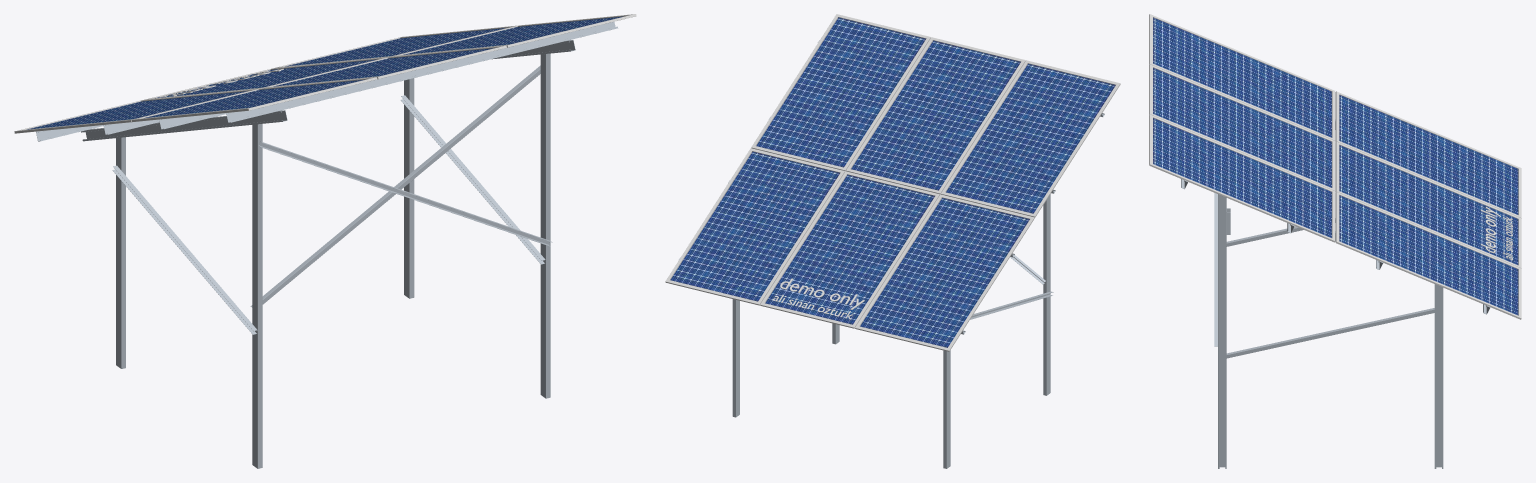
The model's file is Noksel Solar.glb.
3 views of the same model, side by side, from view 1: azimuth 30°, elevation 25°; view 2: azimuth 150°, elevation 25°; view 3: azimuth 270°, elevation 25° (orthographic). The views are drawn at different scales.
Visible parts, largest first — view 1: CC-45, CC-45.007, CC-45.006, defaultMaterial.002, defaultMaterial.004, defaultMaterial.006, defaultMaterial.001, U-40.003, defaultMaterial.005, defaultMaterial.003, CC-45.001, CC-45.008 (+4 smaller); view 2: defaultMaterial.001, defaultMaterial.005, defaultMaterial.002, defaultMaterial.004, defaultMaterial.006, defaultMaterial.003, CC-45, CC-45.001, CC-45.008, demoOnly; view 3: defaultMaterial.006, defaultMaterial.005, defaultMaterial.001, defaultMaterial.002, defaultMaterial.004, defaultMaterial.003, CC-45.007, CC-45.008, U-40.002, U-40.004, U-40.001, demoOnly.
Part boxes in pixels (bbox=[...]): CC-45: bbox=[252, 124, 262, 468]; CC-45.007: bbox=[540, 53, 550, 398]; CC-45.006: bbox=[226, 22, 617, 122]; defaultMaterial.002: bbox=[131, 77, 377, 122]; defaultMaterial.004: bbox=[262, 45, 506, 88]; defaultMaterial.006: bbox=[391, 14, 636, 56]; defaultMaterial.001: bbox=[14, 88, 258, 133]; U-40.003: bbox=[250, 65, 540, 307]; defaultMaterial.005: bbox=[274, 25, 517, 68]; defaultMaterial.003: bbox=[144, 57, 388, 99]; CC-45.001: bbox=[116, 137, 125, 368]; CC-45.008: bbox=[404, 78, 414, 298]; defaultMaterial.001: bbox=[855, 194, 1034, 351]; defaultMaterial.005: bbox=[665, 148, 844, 305]; defaultMaterial.002: bbox=[941, 60, 1120, 217]; defaultMaterial.004: bbox=[846, 37, 1025, 194]; defaultMaterial.006: bbox=[751, 14, 930, 171]; defaultMaterial.003: bbox=[760, 171, 939, 328]; CC-45: bbox=[1043, 194, 1050, 395]; CC-45.001: bbox=[943, 350, 950, 468]; CC-45.008: bbox=[732, 299, 739, 417]; demoOnly: bbox=[780, 278, 864, 309]; defaultMaterial.006: bbox=[1149, 114, 1335, 242]; defaultMaterial.005: bbox=[1335, 192, 1521, 319]; defaultMaterial.001: bbox=[1335, 91, 1521, 218]; defaultMaterial.002: bbox=[1149, 14, 1335, 140]; defaultMaterial.004: bbox=[1149, 64, 1335, 190]; defaultMaterial.003: bbox=[1335, 141, 1521, 268]; CC-45.007: bbox=[1218, 194, 1226, 468]; CC-45.008: bbox=[1434, 284, 1443, 468]; U-40.002: bbox=[1226, 308, 1434, 358]; U-40.004: bbox=[1214, 193, 1217, 346]; U-40.001: bbox=[1226, 218, 1335, 246]; demoOnly: bbox=[1480, 207, 1500, 253].
Size of the model in its own units: 3.72 by 3.69 by 3.88.
Materials: 4 (1 with a texture image).
